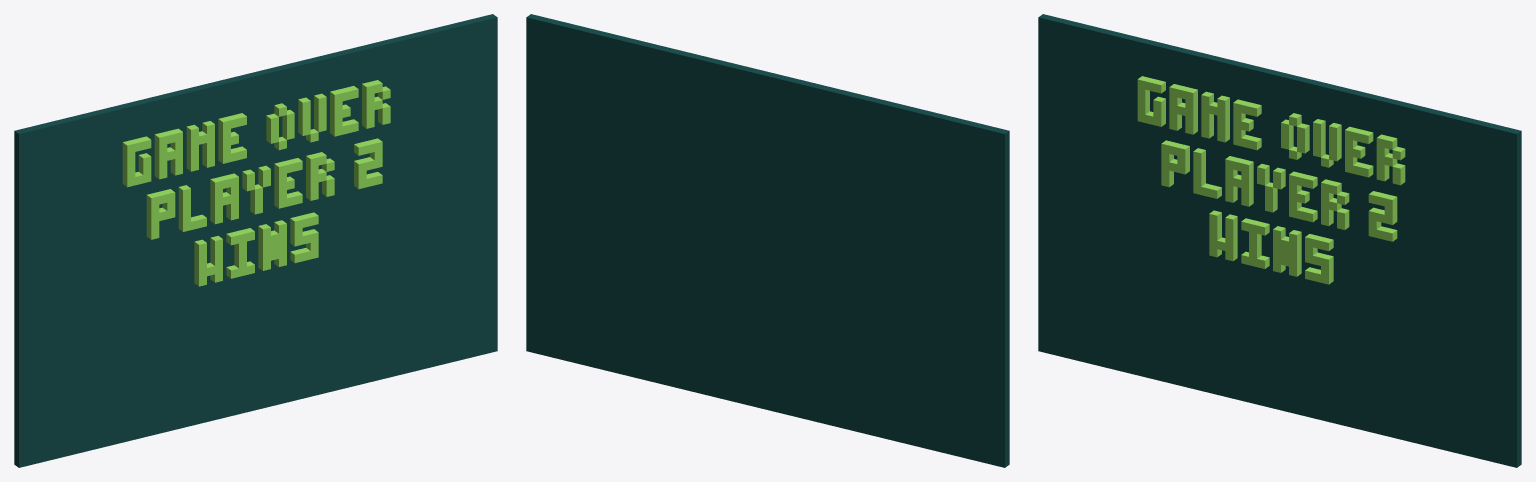
File: WinScreen2.obj
The picture shows the model from 3 angles, left to right: view 1: azimuth 30°, elevation 25°; view 2: azimuth 150°, elevation 25°; view 3: azimuth 330°, elevation 25°; orthographic projection.
Parts seen in each view (by area): view 1: WinScreen2; view 2: WinScreen2; view 3: WinScreen2.
Boxes of the visible parts, box(x1,y1,x2,y2) form: WinScreen2: box(14, 14, 497, 467); WinScreen2: box(526, 14, 1009, 467); WinScreen2: box(1038, 14, 1521, 467).
Bounding box in the file's own units: 60 × 40 × 2.
Materials: 1 (1 with a texture image).
